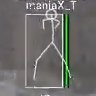hacks_1: (24, 1, 77, 89)
